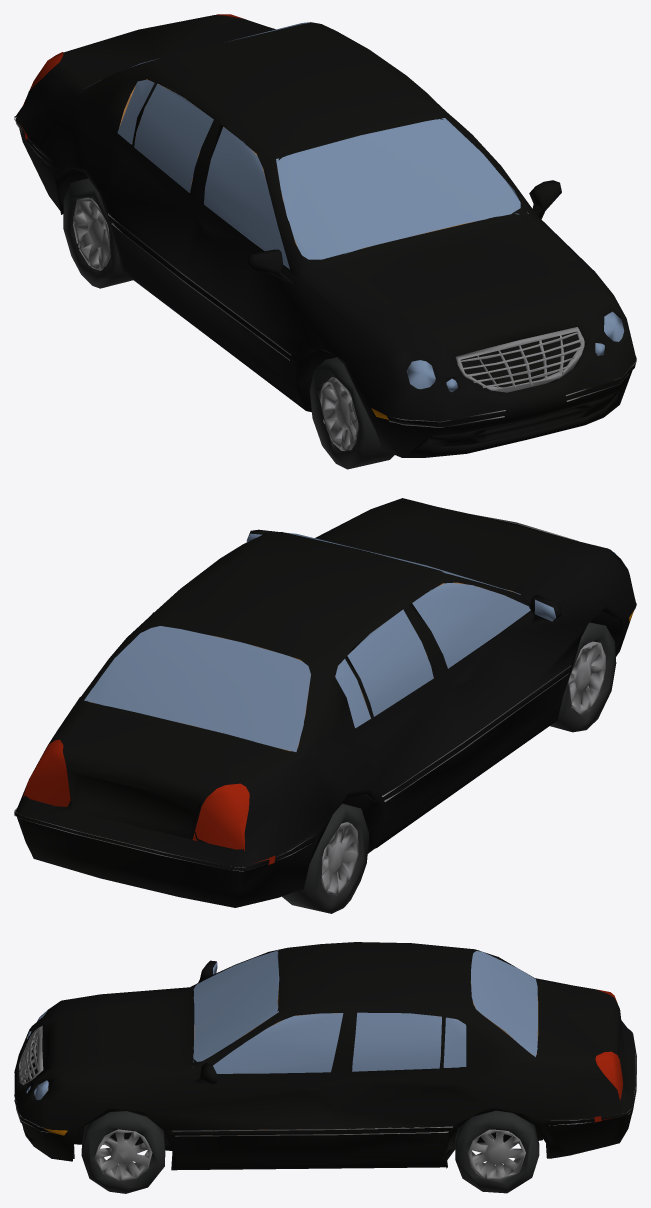
Rendered from Car_Fixed.fbx.
3 views of the same model, one above another, from view 1: azimuth 30°, elevation 25°; view 2: azimuth 150°, elevation 25°; view 3: azimuth 270°, elevation 25° (orthographic). The views are drawn at different scales.
Visible parts, largest first — view 1: Sedan; view 2: Sedan; view 3: Sedan.
Part boxes in pixels (bbox=[...]): Sedan: bbox=[14, 14, 636, 469]; Sedan: bbox=[14, 498, 636, 913]; Sedan: bbox=[14, 942, 636, 1193].
Bounding box in the file's own units: 295 × 210 × 674.
